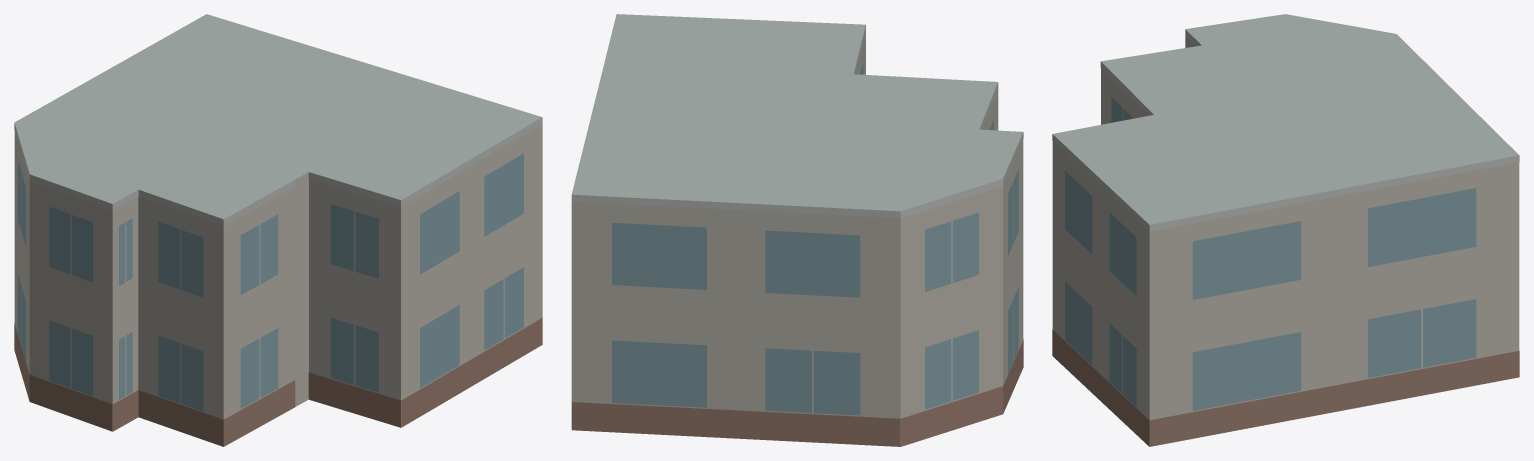
File: survey-upis-33039567.glb
3 views of the same model, side by side, from view 1: azimuth 30°, elevation 25°; view 2: azimuth 150°, elevation 25°; view 3: azimuth 270°, elevation 25° (orthographic). The views are drawn at different scales.
Visible parts, largest first — view 1: survey-upis-33039567.tmp; view 2: survey-upis-33039567.tmp; view 3: survey-upis-33039567.tmp.
Part boxes in pixels (bbox=[...]): survey-upis-33039567.tmp: bbox=[14, 14, 542, 446]; survey-upis-33039567.tmp: bbox=[571, 14, 1023, 446]; survey-upis-33039567.tmp: bbox=[1052, 14, 1519, 446].
Size of the model in its own units: 16.17 by 7.93 by 15.13.
